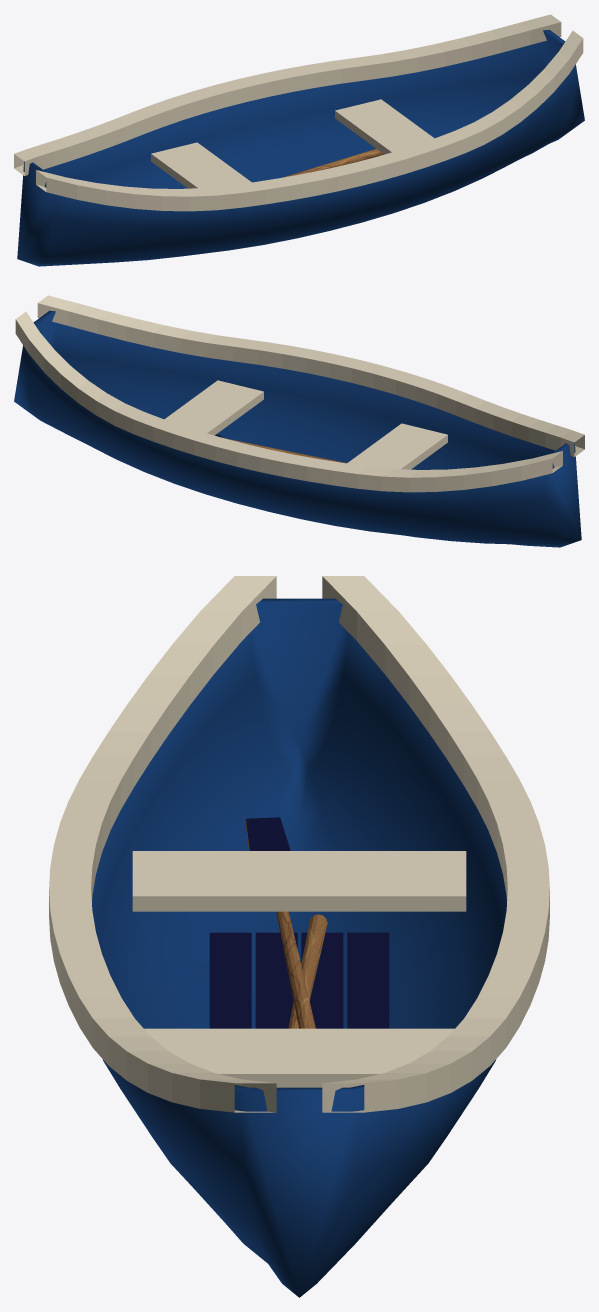
File: perahu-biru-blender-v1.glb
The picture shows the model from 3 angles, top to bottom: view 1: azimuth 30°, elevation 25°; view 2: azimuth 150°, elevation 25°; view 3: azimuth 270°, elevation 25°; orthographic projection. The views are drawn at different scales.
Visible parts, largest first — view 1: hull, rails, thwarts_cream, oars_wood; view 2: hull, rails, thwarts_cream; view 3: hull, rails, thwarts_cream, floor_navy, oars_wood.
Boxes of the visible parts, bbox=[...] form: hull: bbox=[17, 29, 584, 266]; rails: bbox=[14, 14, 583, 211]; thwarts_cream: bbox=[151, 99, 434, 188]; oars_wood: bbox=[282, 149, 383, 177]; hull: bbox=[14, 310, 581, 547]; rails: bbox=[15, 295, 584, 492]; thwarts_cream: bbox=[164, 380, 447, 469]; hull: bbox=[92, 598, 506, 1297]; rails: bbox=[49, 576, 549, 1112]; thwarts_cream: bbox=[132, 851, 466, 1087]; floor_navy: bbox=[209, 817, 389, 1028]; oars_wood: bbox=[246, 820, 327, 1028].
Bounding box in the file's own units: 3.43 × 0.7694 × 1.31.
Materials: 4 (1 with a texture image).
